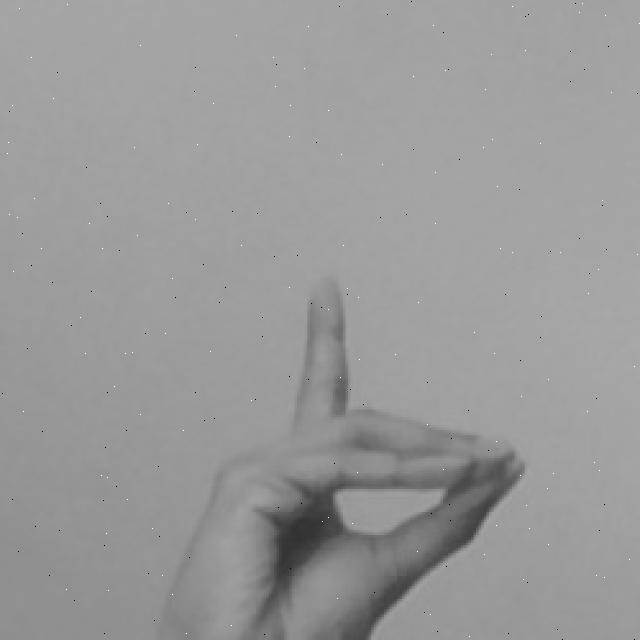D: (152, 278, 525, 640)
